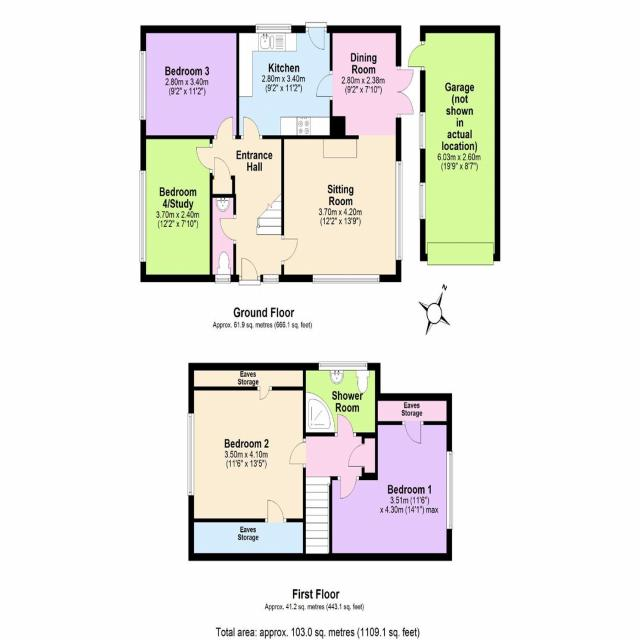DOOR: (280, 236, 299, 263), (266, 498, 285, 525), (288, 440, 307, 466), (339, 475, 358, 501), (240, 256, 259, 281), (307, 26, 326, 51), (242, 115, 261, 140), (336, 412, 355, 437), (403, 420, 422, 445), (195, 146, 213, 171), (219, 217, 237, 242), (315, 73, 333, 98), (347, 443, 365, 468), (216, 116, 234, 140), (259, 385, 271, 402)
DOUBLE DOOR: (396, 65, 415, 117)
ROOM: (281, 25, 415, 286), (329, 420, 454, 561), (186, 386, 306, 523), (236, 22, 346, 140), (138, 25, 240, 140), (139, 135, 213, 283)
WINDOW: (395, 160, 403, 262), (312, 273, 380, 285), (139, 169, 147, 263), (187, 412, 195, 497), (139, 49, 147, 121), (446, 450, 453, 531), (318, 361, 368, 372), (255, 23, 292, 34), (262, 274, 280, 284), (215, 274, 231, 284)
